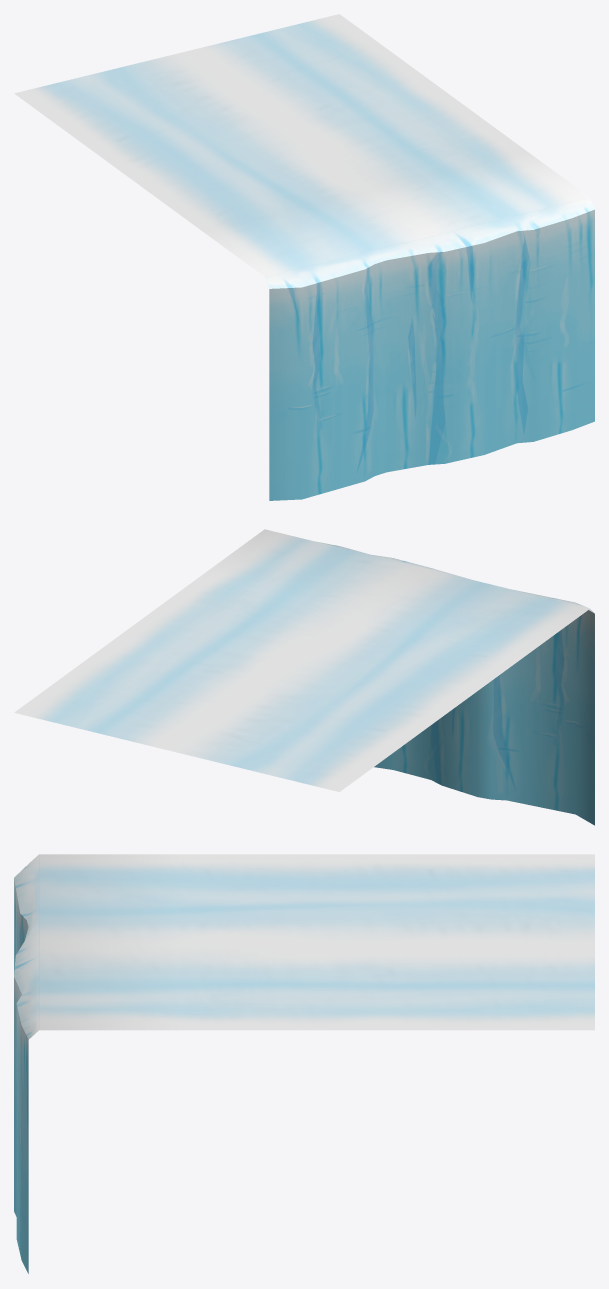
Rendered from Crag_End.FBX.
The picture shows the model from 3 angles, top to bottom: view 1: azimuth 30°, elevation 25°; view 2: azimuth 150°, elevation 25°; view 3: azimuth 270°, elevation 25°; orthographic projection. The views are drawn at different scales.
Visible parts, largest first — view 1: Object272; view 2: Object272; view 3: Object272.
Part boxes in pixels (x1,y1,x2,y2): Object272: [14, 14, 594, 500]; Object272: [14, 529, 594, 825]; Object272: [14, 854, 594, 1273].
Size of the model in its own units: 600 by 388 by 837.
